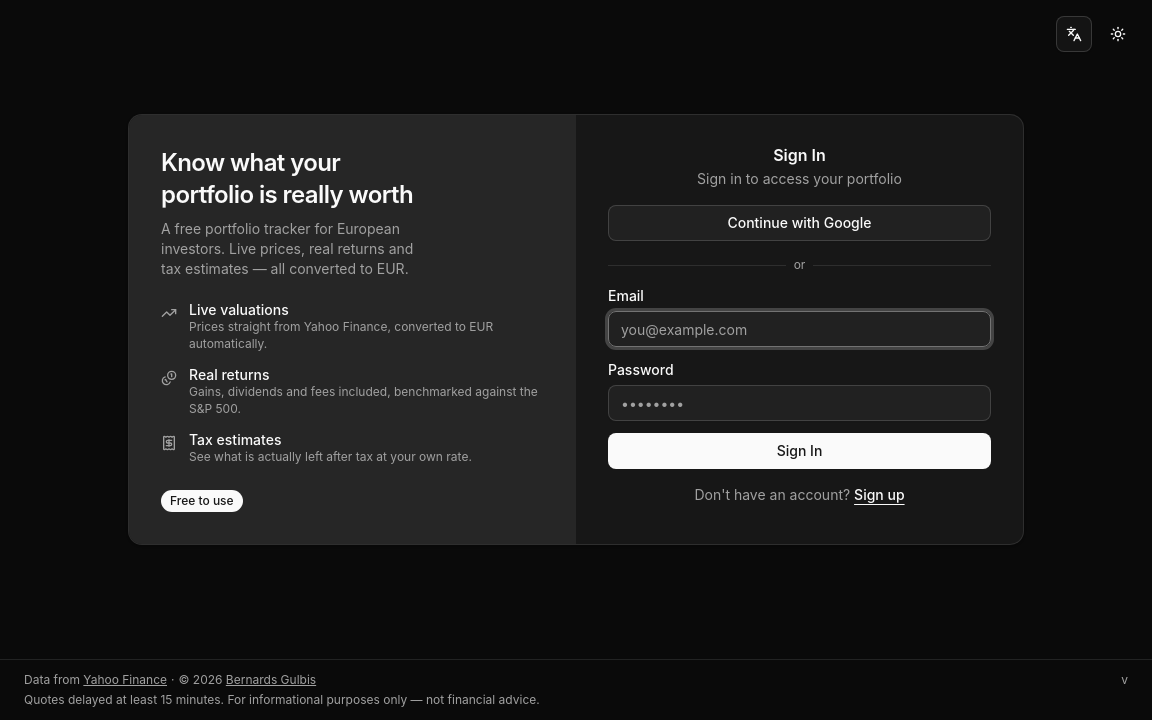
Test: LoginPage › switches back to Sign In mode when Sign in is clicked
Click the button "Sign up".
click(879, 495)  # box left=854, top=485, right=905, bottom=505
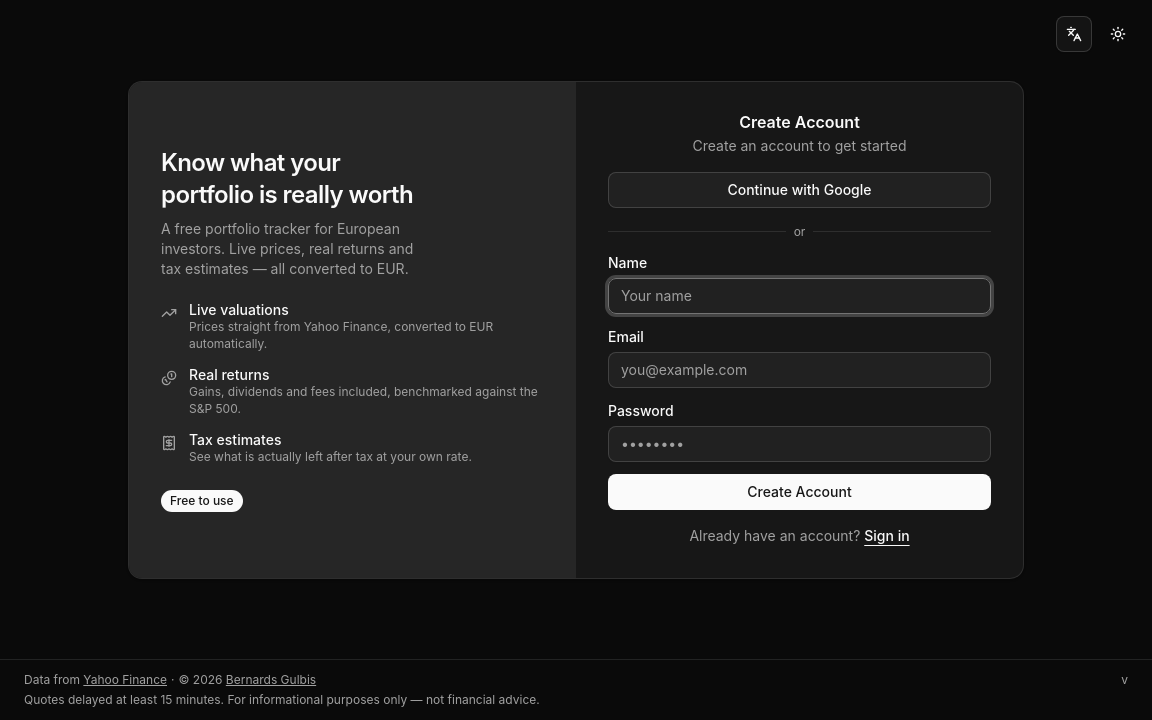
Click the button "Sign in".
click(887, 536)  # box left=864, top=526, right=910, bottom=546
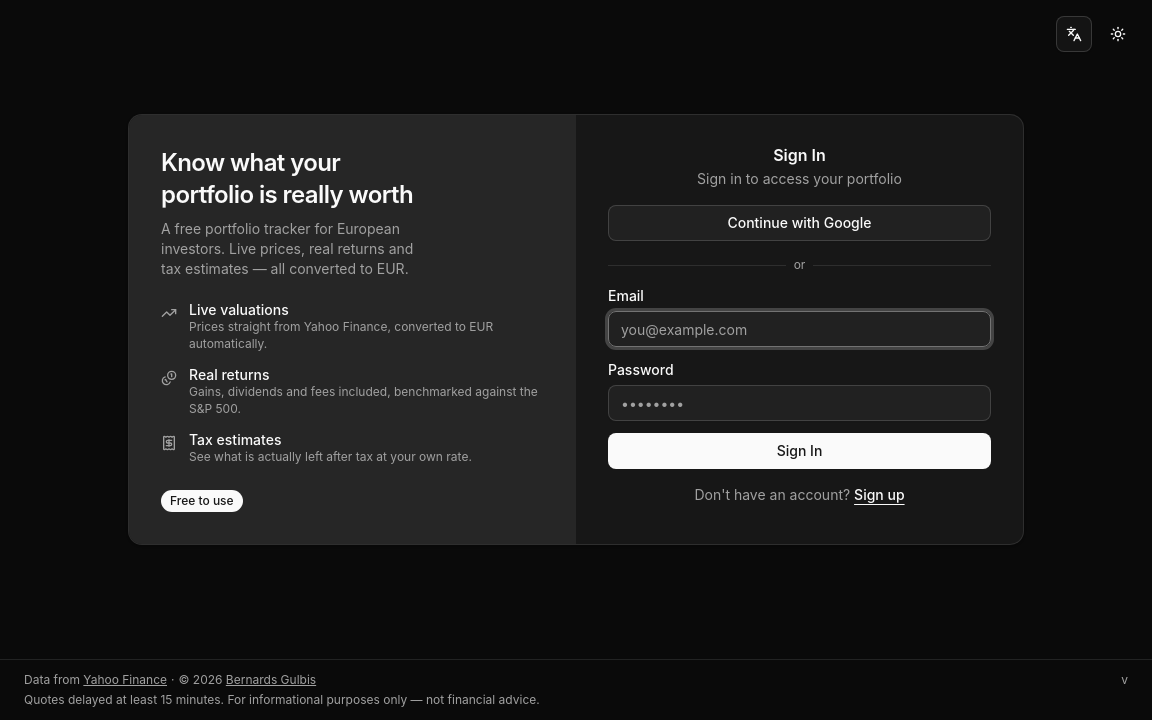
Result: the text "Sign In" is shown at left=773, top=145, right=826, bottom=165
